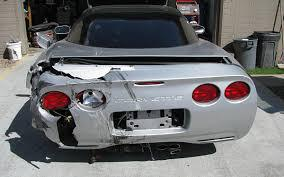Rear-windscreen-Damage: (32, 62, 94, 144)
